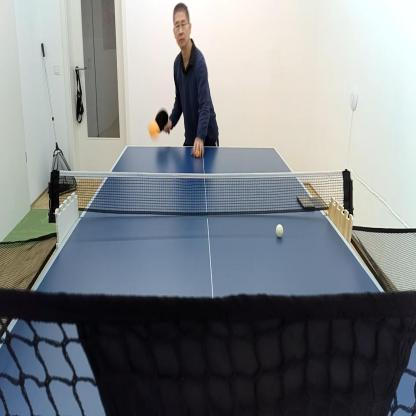Ball: (149, 122, 160, 141), (277, 223, 283, 236), (196, 148, 200, 156)
